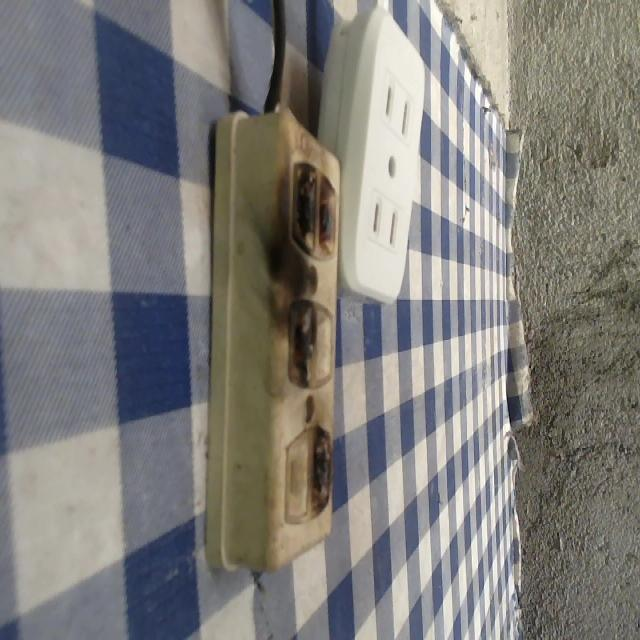-: (280, 158, 342, 270), (307, 418, 342, 526), (285, 303, 318, 397)
